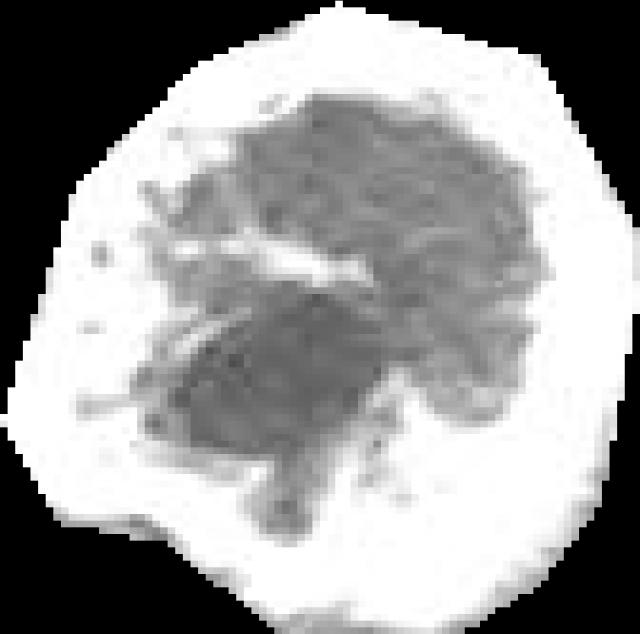tumor_less_chance: (0, 1, 640, 634)
